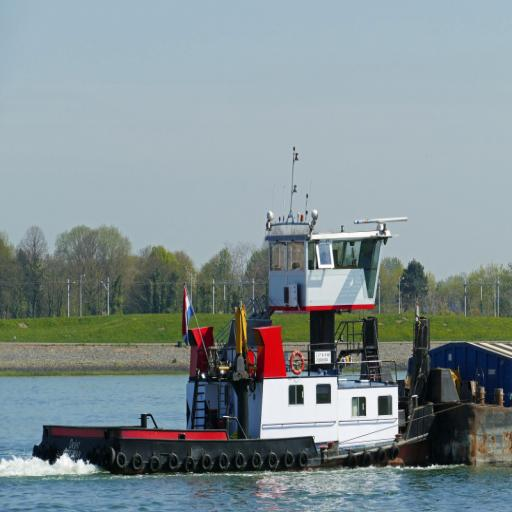tugboat: (32, 214, 450, 484)
